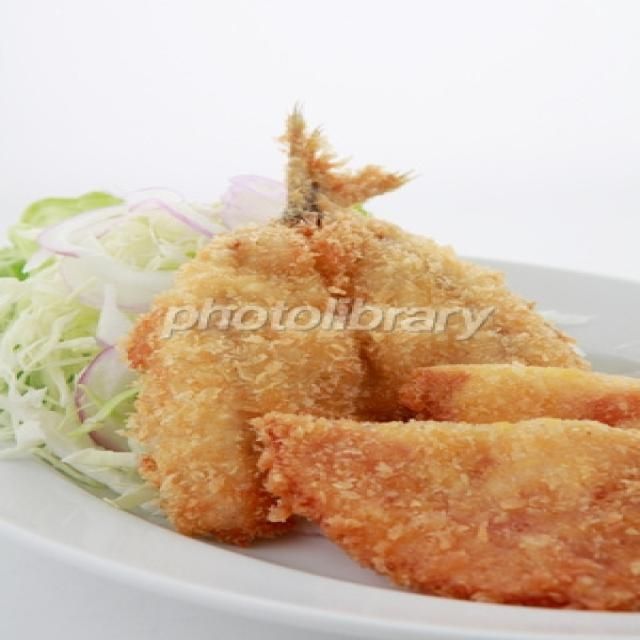炸货点心: (10, 108, 636, 623)
